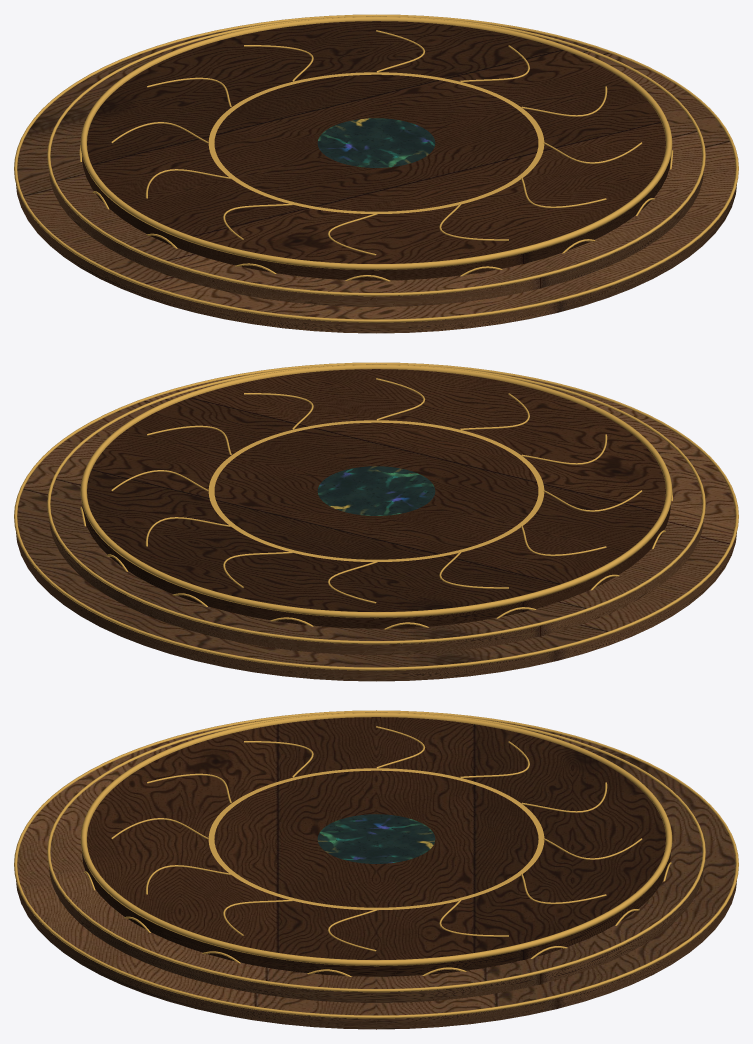
The model's file is hall-stage.glb.
3 renders of one model, top to bottom at view 1: azimuth 30°, elevation 25°; view 2: azimuth 150°, elevation 25°; view 3: azimuth 270°, elevation 25°, orthographic.
Visible parts, largest first — view 1: hall-stage_MeshPhysicalMaterial (×2), hall-stage_MeshStandardMaterial, hall-stage_Labradorite; view 2: hall-stage_MeshPhysicalMaterial (×2), hall-stage_MeshStandardMaterial, hall-stage_Labradorite; view 3: hall-stage_MeshPhysicalMaterial (×2), hall-stage_MeshStandardMaterial, hall-stage_Labradorite.
Part boxes in pixels (x1,y1,x2,y2): hall-stage_MeshPhysicalMaterial (×2): [16, 21, 736, 333]; hall-stage_MeshStandardMaterial: [14, 14, 738, 322]; hall-stage_Labradorite: [317, 118, 435, 167]; hall-stage_MeshPhysicalMaterial (×2): [16, 369, 736, 681]; hall-stage_MeshStandardMaterial: [14, 362, 738, 670]; hall-stage_Labradorite: [317, 466, 435, 515]; hall-stage_MeshPhysicalMaterial (×2): [16, 717, 736, 1029]; hall-stage_MeshStandardMaterial: [14, 710, 738, 1018]; hall-stage_Labradorite: [317, 814, 435, 863].
Bounding box in the file's own units: 7.88 × 0.485 × 7.88.
Materials: 4 (3 with a texture image).
